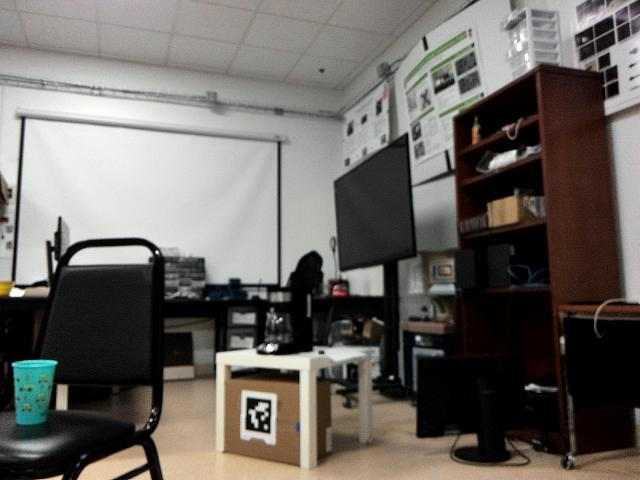coffee_cup: (9, 355, 59, 428)
